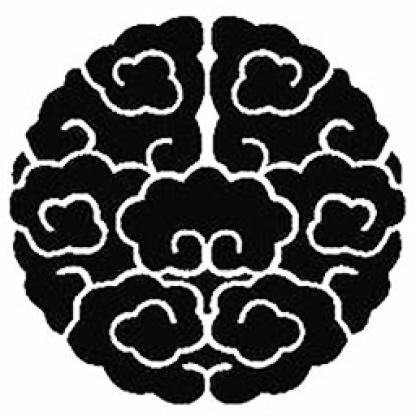kamon: (8, 14, 413, 414)
